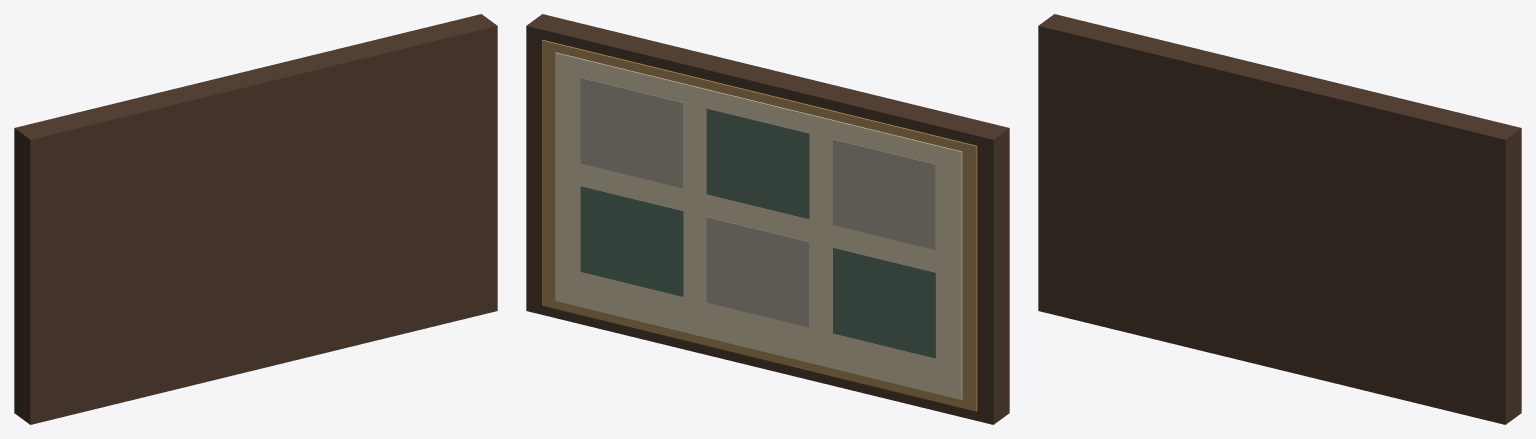
The model's file is LP_Security_NoticeBoard.fbx.
3 renders of one model, left to right at view 1: azimuth 30°, elevation 25°; view 2: azimuth 150°, elevation 25°; view 3: azimuth 330°, elevation 25°, orthographic.
Visible parts, largest first — view 1: Walnut; view 2: WarmIvory, Walnut, M_Museum_DustCloth, SageUpholstery, AgedBrass; view 3: Walnut.
Boxes of the visible parts, x1,y1,x2,y2 form: Walnut: (14,14,497,424); WarmIvory: (555,52,962,399); Walnut: (526,14,1009,424); M_Museum_DustCloth: (580,78,935,327); SageUpholstery: (580,108,935,358); AgedBrass: (542,40,977,411); Walnut: (1038,14,1521,424).
Size of the model in its own units: 120 by 70 by 8.
